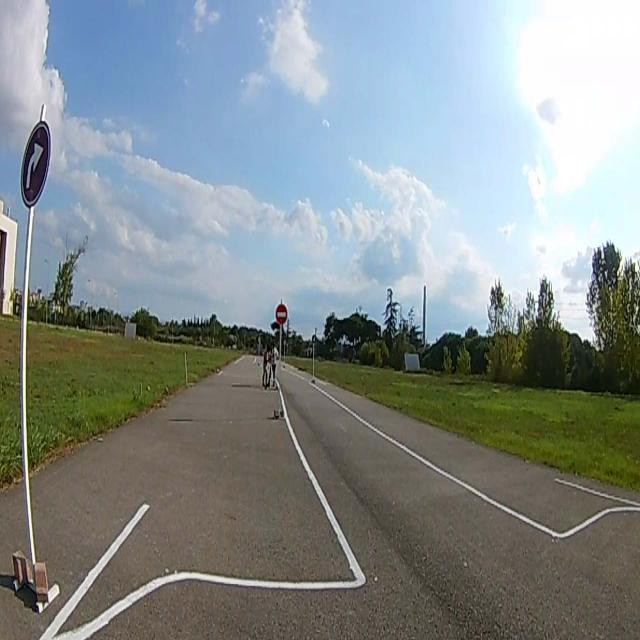girisyok: (275, 302, 288, 328)
sag: (20, 124, 50, 204)
